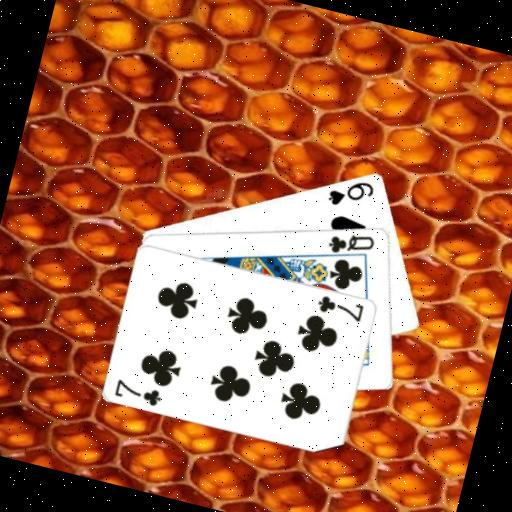6S: (323, 170, 378, 215)
7C: (111, 375, 165, 409), (313, 291, 367, 324)
QC: (323, 223, 379, 264)
